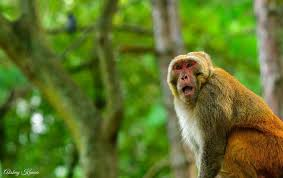monkey: (42, 2, 272, 174)
